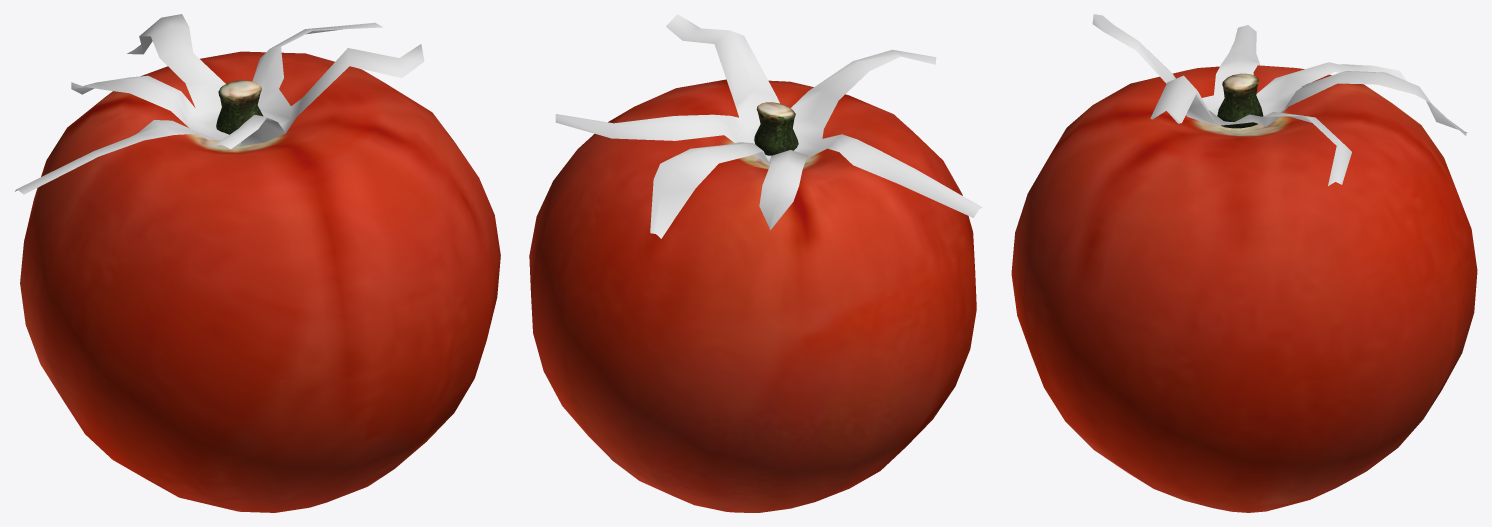
The model's file is tomato_oshinchan_model_for_export1.fbx.
3 views of the same model, side by side, from view 1: azimuth 30°, elevation 25°; view 2: azimuth 150°, elevation 25°; view 3: azimuth 270°, elevation 25° (orthographic). The views are drawn at different scales.
Visible parts, largest first — view 1: tomato; view 2: tomato; view 3: tomato.
Part boxes in pixels (x1,y1,x2,y2): tomato: (15, 14, 500, 512); tomato: (529, 14, 982, 512); tomato: (1011, 14, 1477, 512).
Bounding box in the file's own units: 0.0831 × 0.082 × 0.077.
3 materials, 2 textured.
